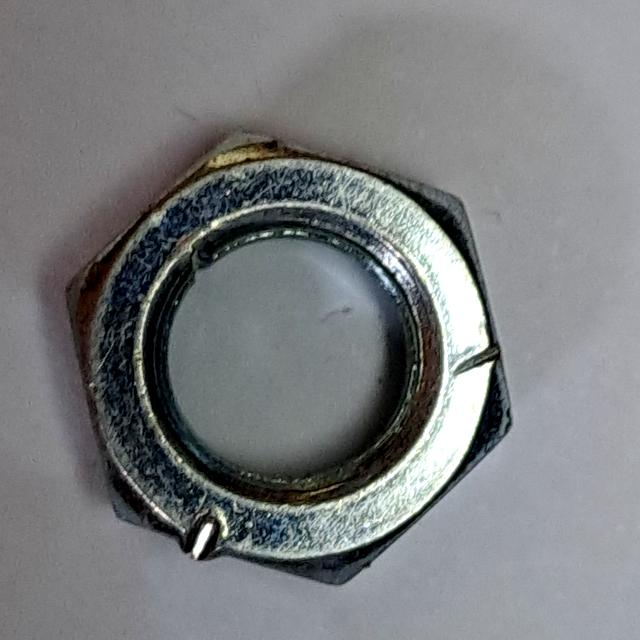Scratches: (53, 113, 528, 596)
